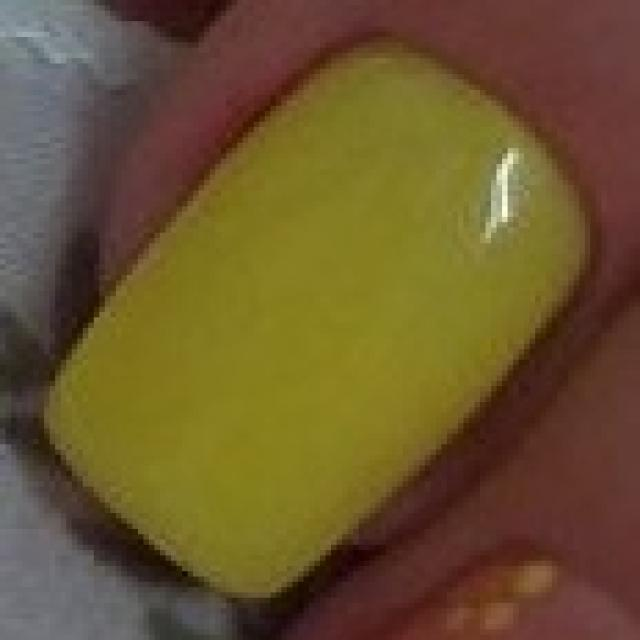Nail: (44, 32, 596, 598)
